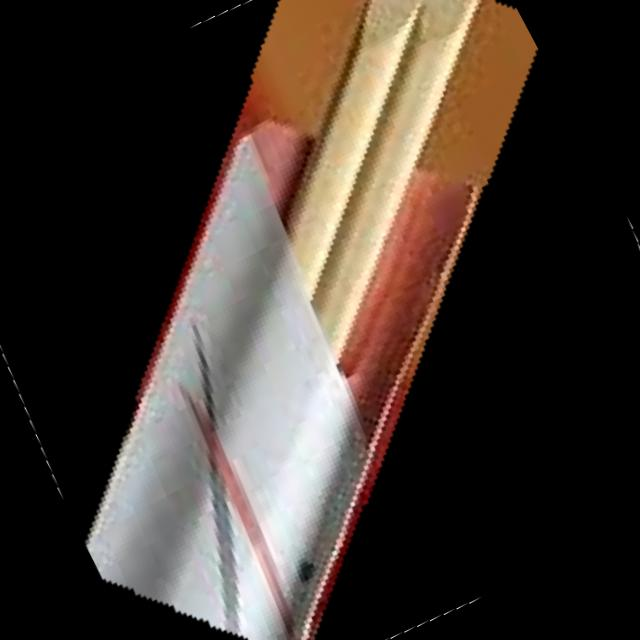others: (85, 0, 543, 640)
